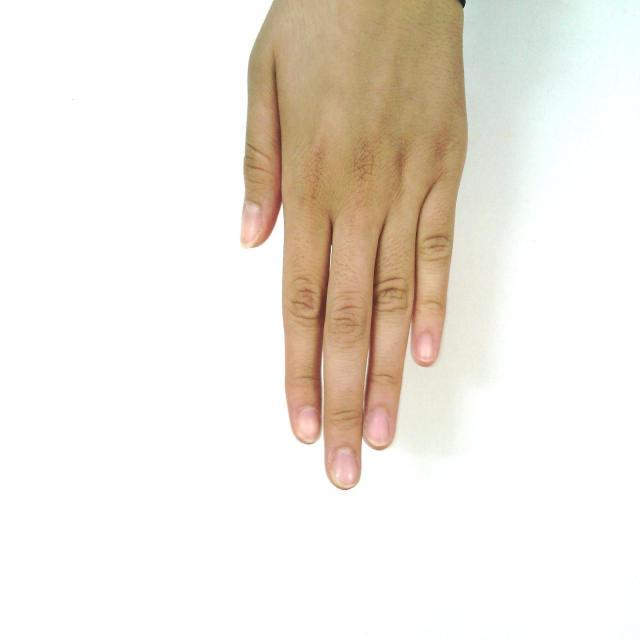Fingernail: (240, 203, 264, 249), (333, 448, 357, 485), (366, 408, 389, 443), (298, 408, 318, 441), (417, 333, 433, 360)
